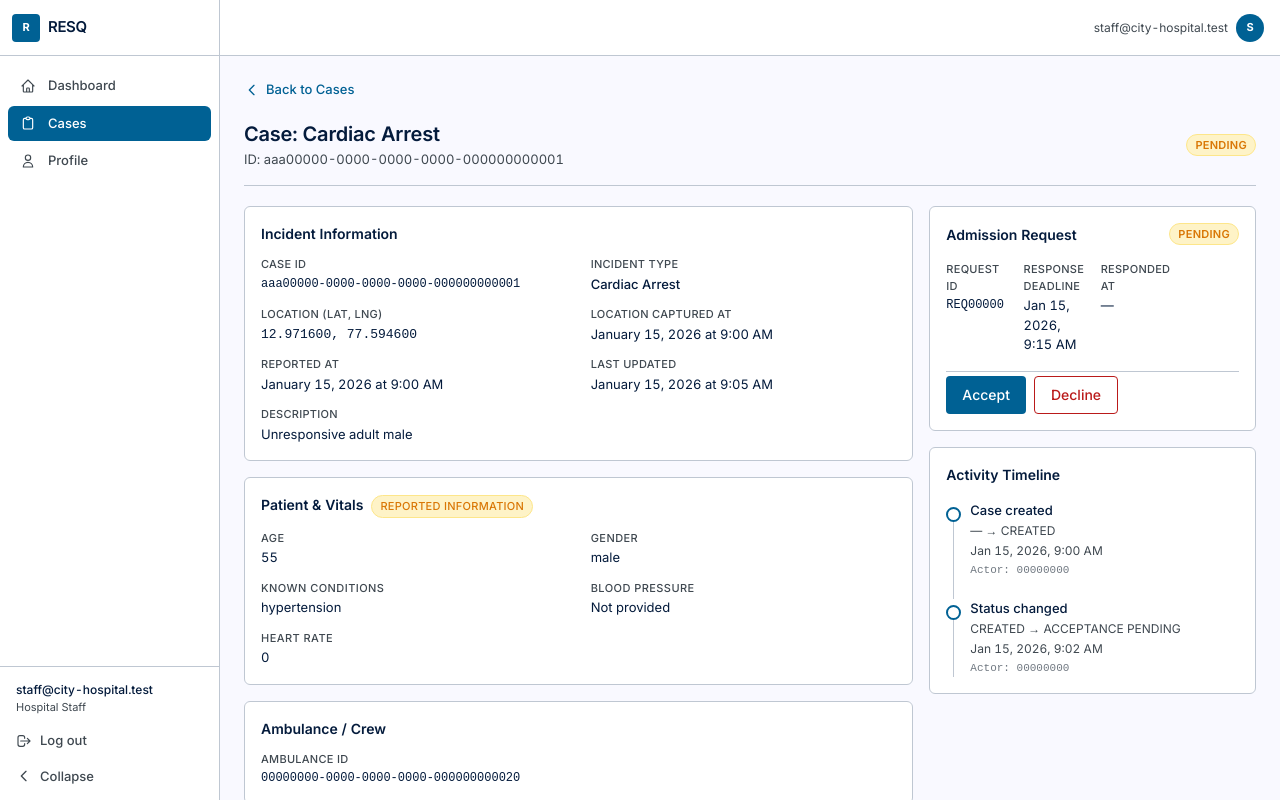
Test: AdmissionRequestPanel — decline › shows ConfirmDialog before declining
Click the button "Decline" at (1076, 395), box x1=1034 y1=376 x2=1118 y2=414
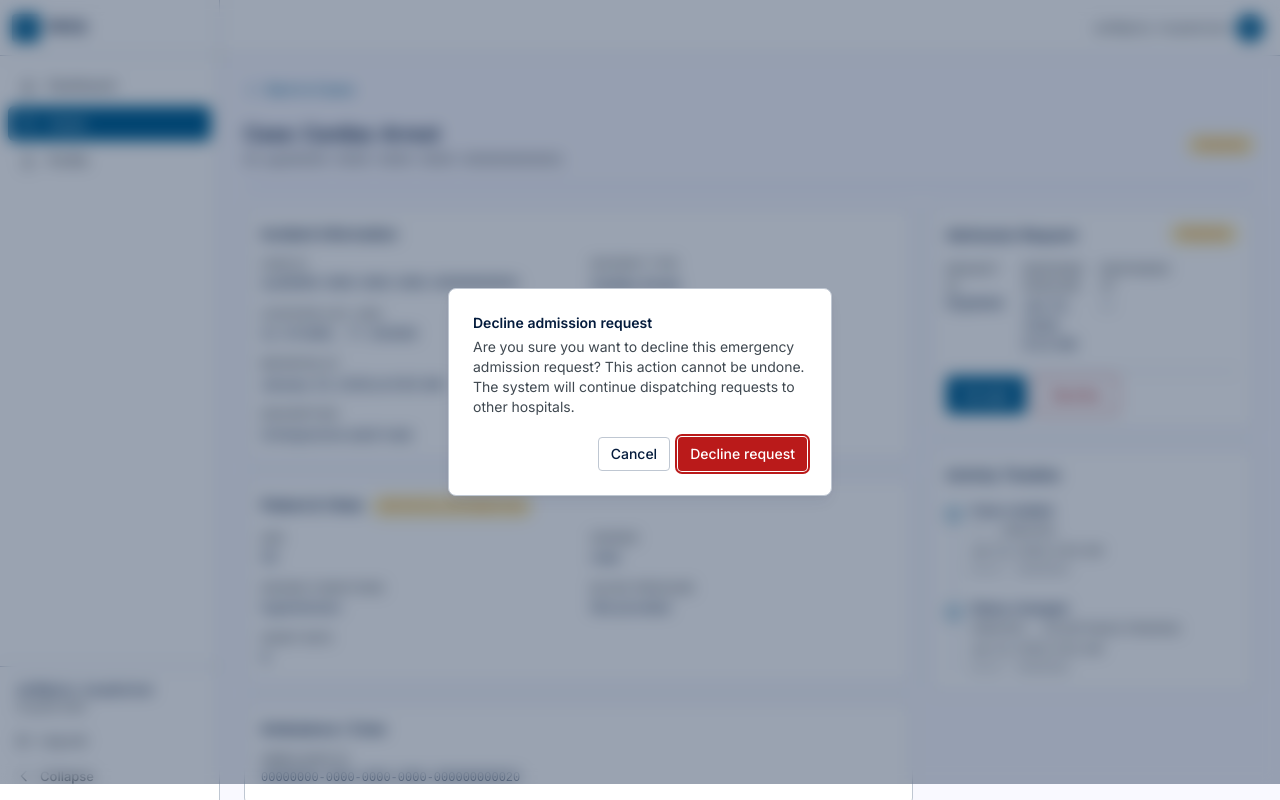
Now the heading "Decline admission request" is shown, box x1=473 y1=314 x2=652 y2=331
